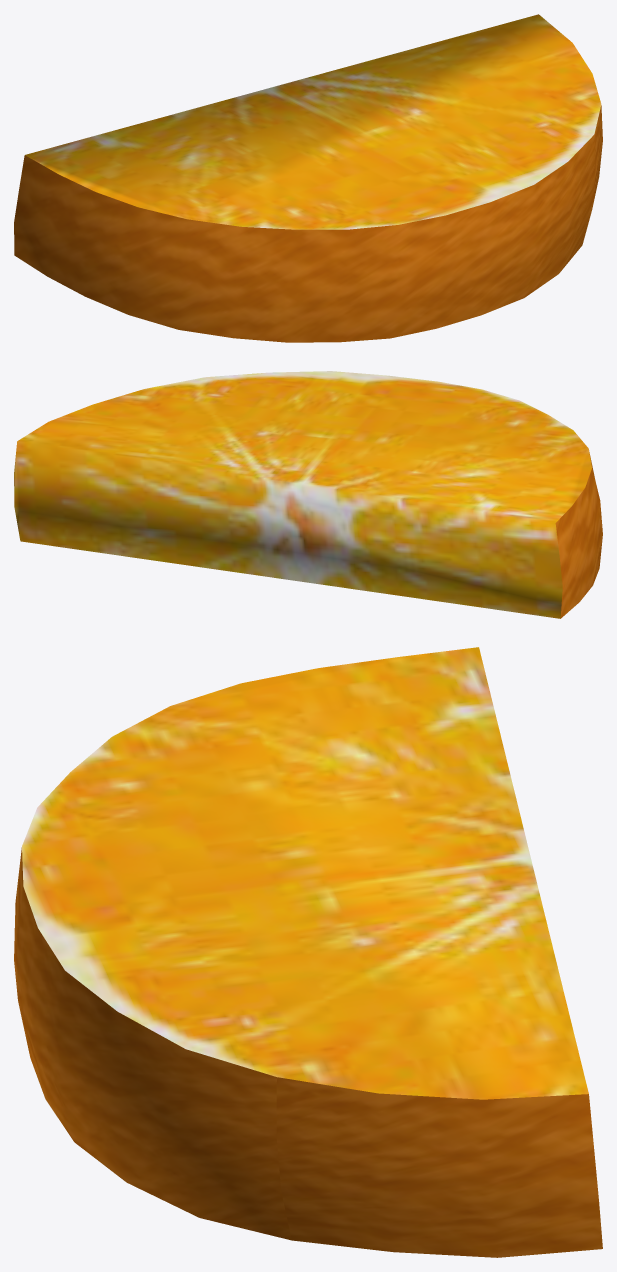
The model's file is OrangeSlice.fbx.
The picture shows the model from 3 angles, top to bottom: view 1: azimuth 30°, elevation 25°; view 2: azimuth 150°, elevation 25°; view 3: azimuth 270°, elevation 25°; orthographic projection. The views are drawn at different scales.
Parts seen in each view (by area): view 1: Lime.002, Lime.001; view 2: Lime.002, Lime.001; view 3: Lime.002, Lime.001.
Boxes of the visible parts, <box> form: Lime.002: <box>25,14,601,229</box>; Lime.001: <box>14,105,602,342</box>; Lime.002: <box>14,371,591,618</box>; Lime.001: <box>555,452,602,618</box>; Lime.002: <box>22,647,588,1099</box>; Lime.001: <box>14,847,602,1257</box>.
Size of the model in its own units: 10.34 by 2.45 by 6.05.
2 materials, 2 textured.
